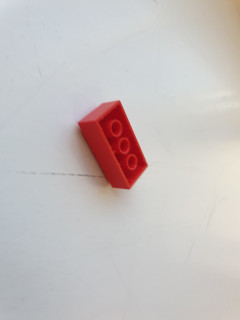2x4 red: (76, 99, 150, 192)
